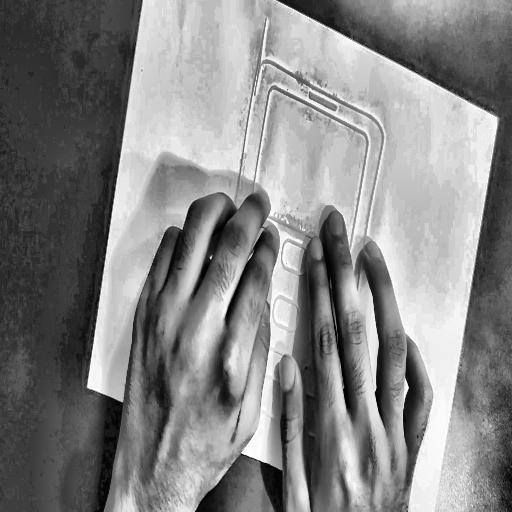bottom_left: (84, 380, 91, 393)
mobile: (194, 8, 405, 461)
top_right: (495, 112, 503, 126)
